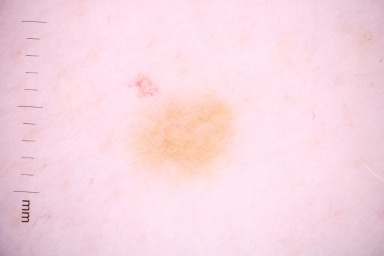melanoma: (127, 102, 229, 174)
